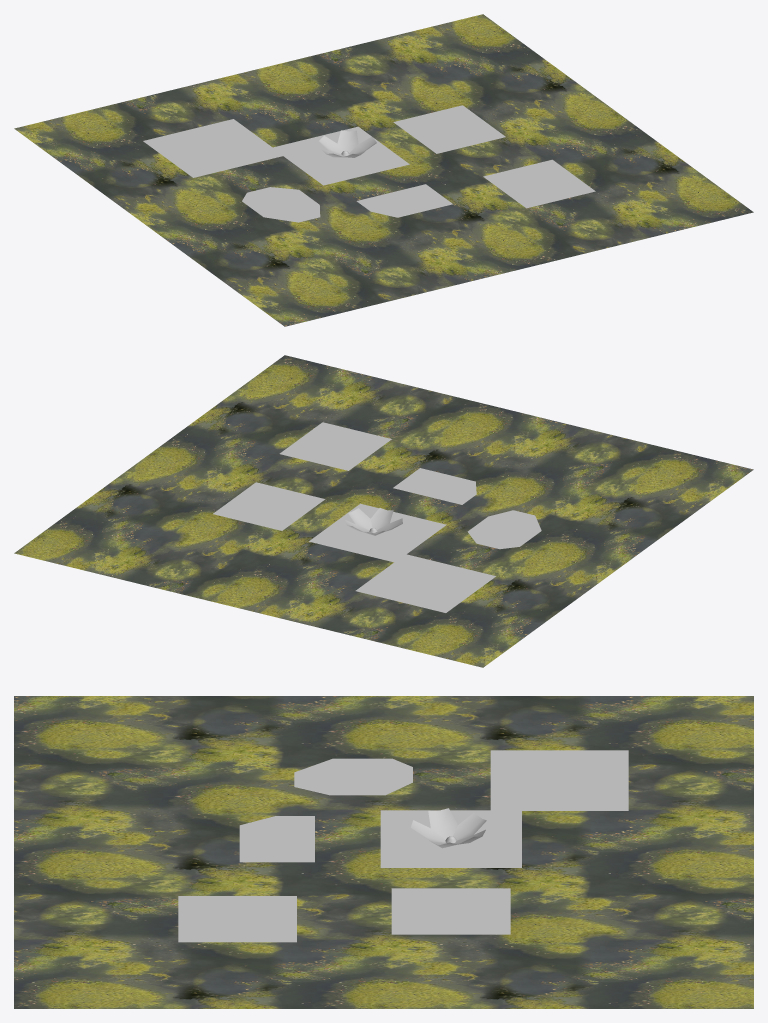
File: Swamp_Mesh.fbx
The picture shows the model from 3 angles, top to bottom: view 1: azimuth 30°, elevation 25°; view 2: azimuth 150°, elevation 25°; view 3: azimuth 270°, elevation 25°; orthographic projection. The views are drawn at different scales.
Visible parts, largest first — view 1: Swamp_Water, Water_Leaf_F, Water_Leaf_A1, Water_Leaf_C, Water_Flower_A, Water_Leaf_D, Water_Leaf_B, Water_Flower; view 2: Swamp_Water, Water_Leaf_F, Water_Leaf_A1, Water_Flower_A, Water_Leaf_C, Water_Leaf_D, Water_Leaf_B, Water_Flower; view 3: Swamp_Water, Water_Leaf_F, Water_Leaf_A1, Water_Flower_A, Water_Leaf_C, Water_Leaf_D, Water_Leaf_B, Water_Flower.
Part boxes in pixels (box(x1,y1,x2,y2)): Swamp_Water: box(14, 14, 753, 326); Water_Leaf_F: box(143, 119, 282, 177); Water_Leaf_A1: box(272, 126, 409, 185); Water_Leaf_C: box(483, 159, 595, 208); Water_Flower_A: box(393, 105, 505, 153); Water_Leaf_D: box(242, 187, 320, 222); Water_Leaf_B: box(356, 184, 452, 217); Water_Flower: box(318, 130, 376, 157); Swamp_Water: box(14, 355, 753, 667); Water_Leaf_F: box(355, 554, 495, 612); Water_Leaf_A1: box(309, 503, 446, 562); Water_Flower_A: box(213, 482, 325, 530); Water_Leaf_C: box(279, 422, 391, 470); Water_Leaf_D: box(467, 510, 541, 549); Water_Leaf_B: box(393, 468, 476, 504); Water_Flower: box(345, 508, 402, 535); Swamp_Water: box(14, 696, 753, 1008); Water_Leaf_F: box(490, 750, 628, 810); Water_Leaf_A1: box(380, 810, 521, 867); Water_Flower_A: box(391, 888, 510, 934); Water_Leaf_C: box(178, 896, 296, 942); Water_Leaf_D: box(294, 758, 412, 795); Water_Leaf_B: box(239, 816, 314, 862); Water_Flower: box(411, 808, 486, 848).
Bounding box in the file's own units: 124 × 3.63 × 124.
